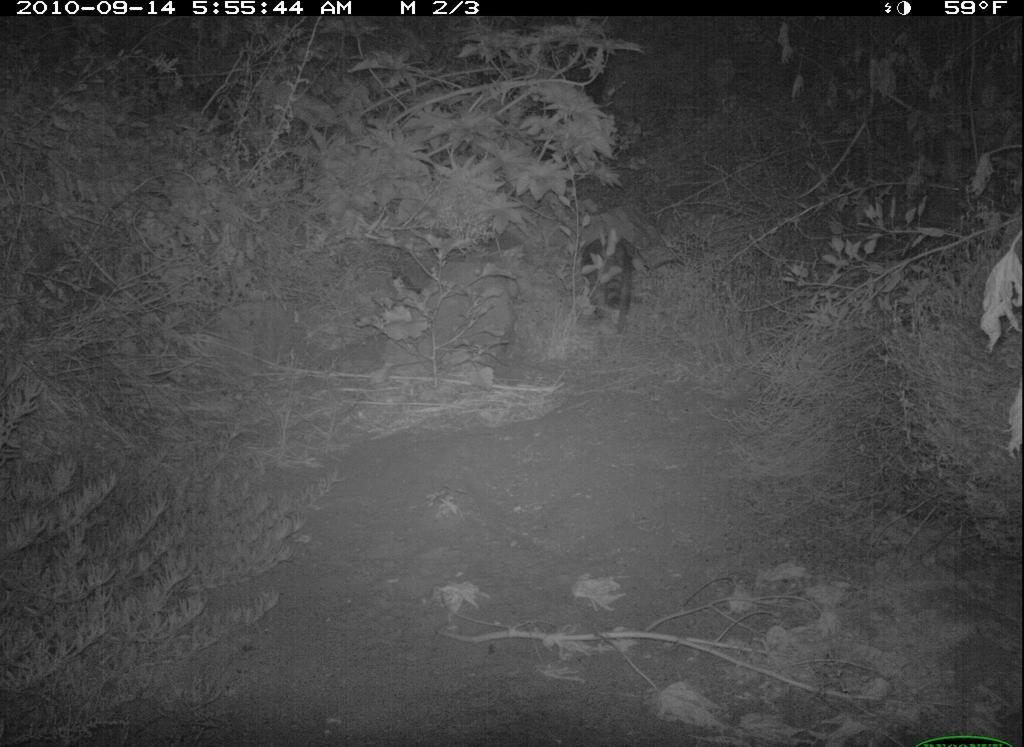raccoon: (577, 219, 648, 351)
